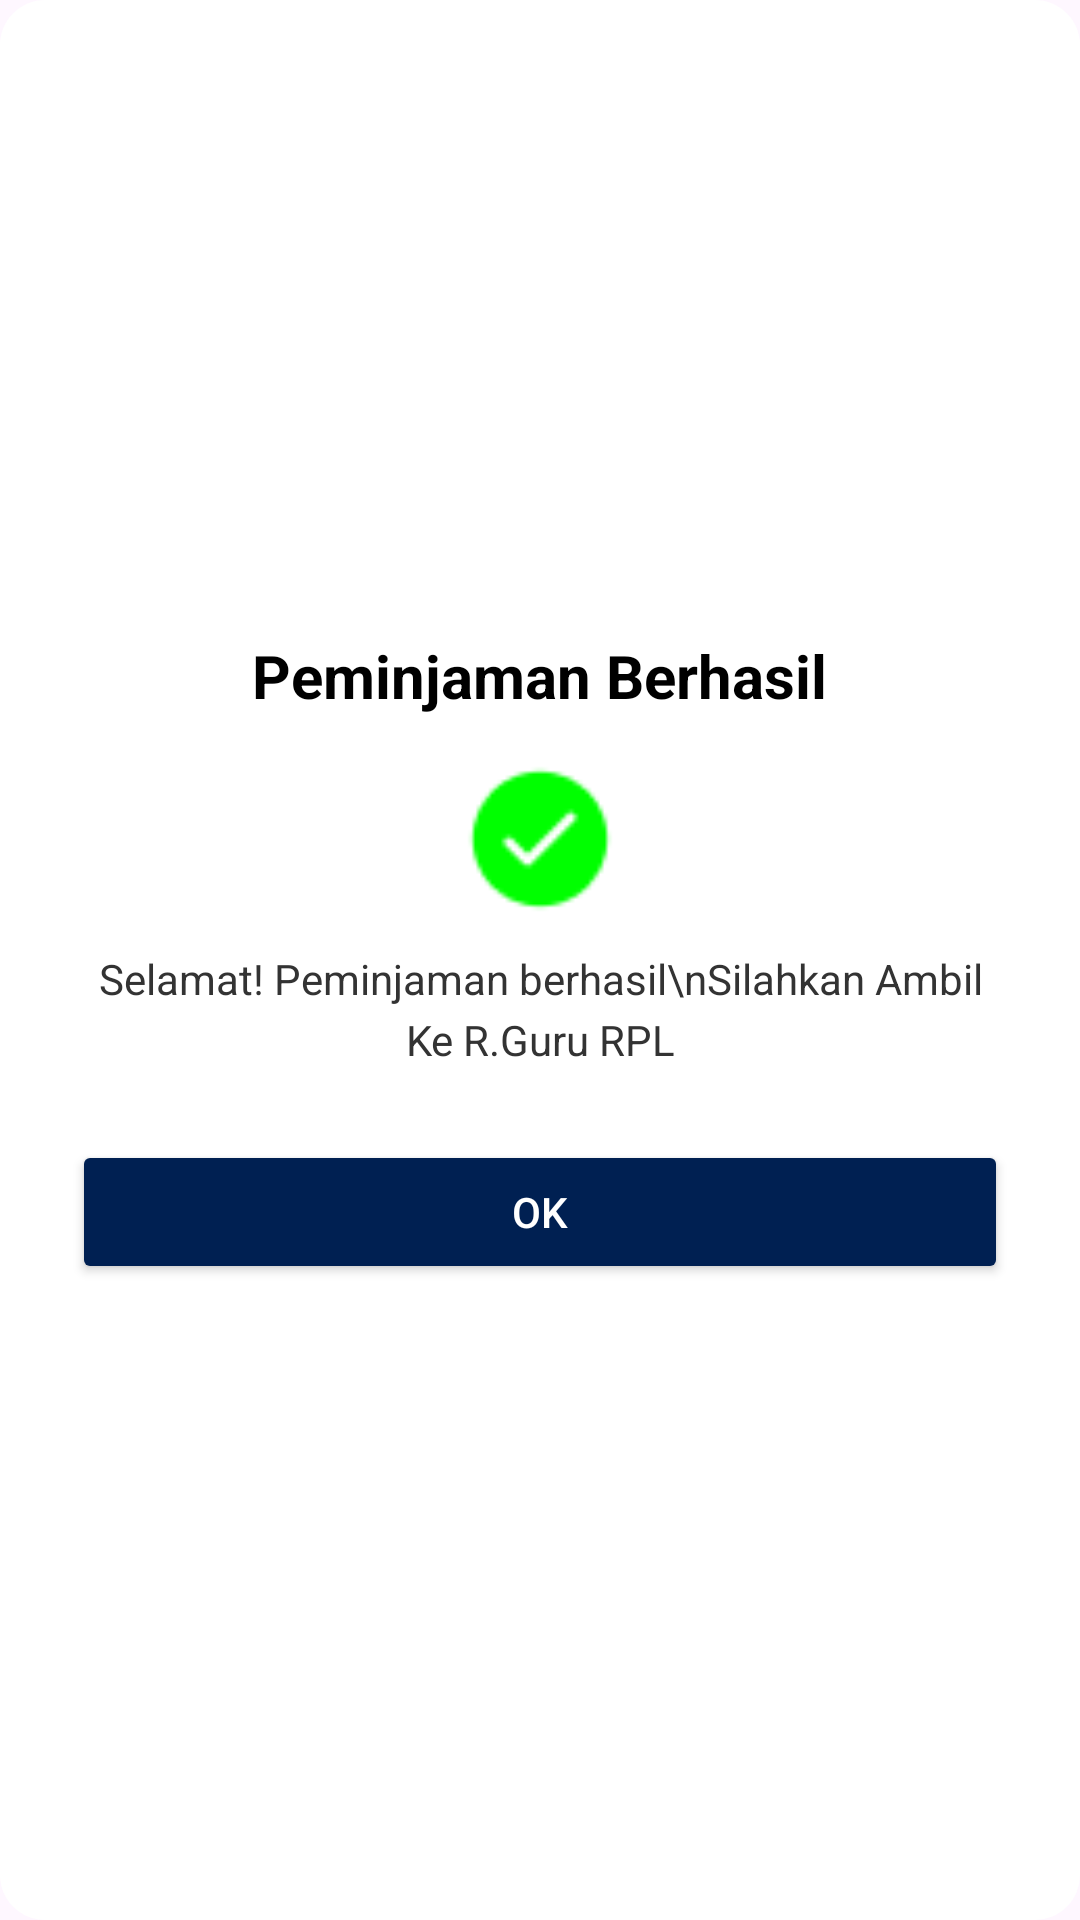

Icon bounding boxes for this 1080 x 1920 phone screenshot, format (x1, y1, x2, y2):
centang: (470, 769, 610, 909)
